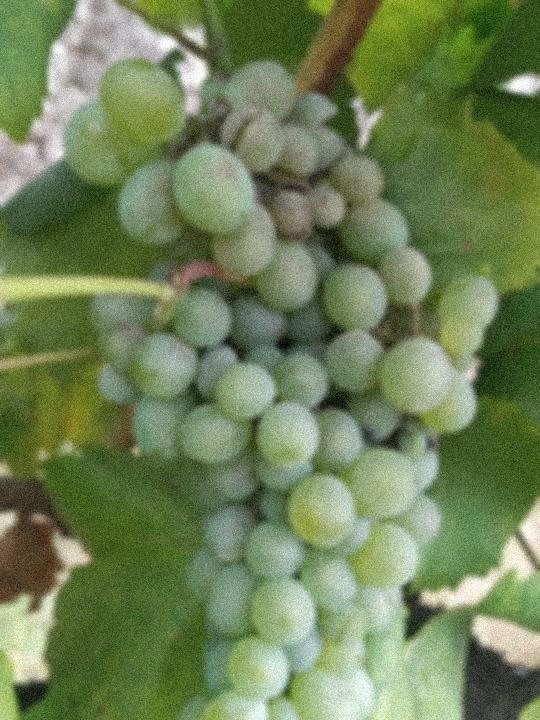grape: (58, 54, 503, 720)
